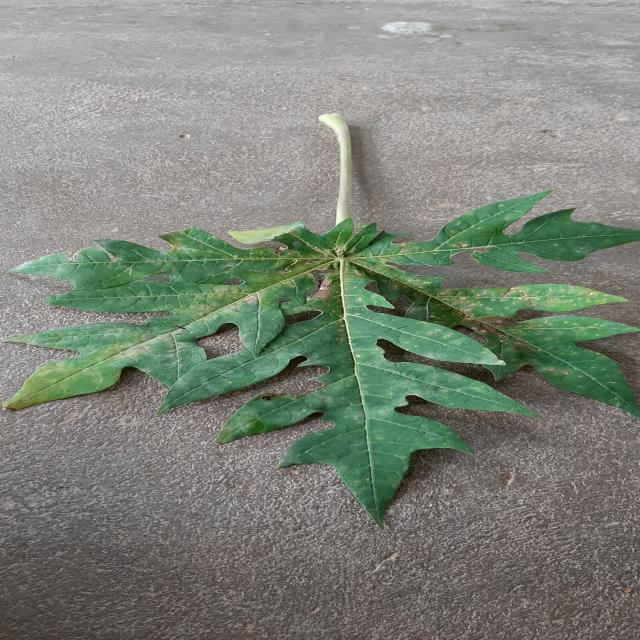papaya: (5, 192, 637, 522)
